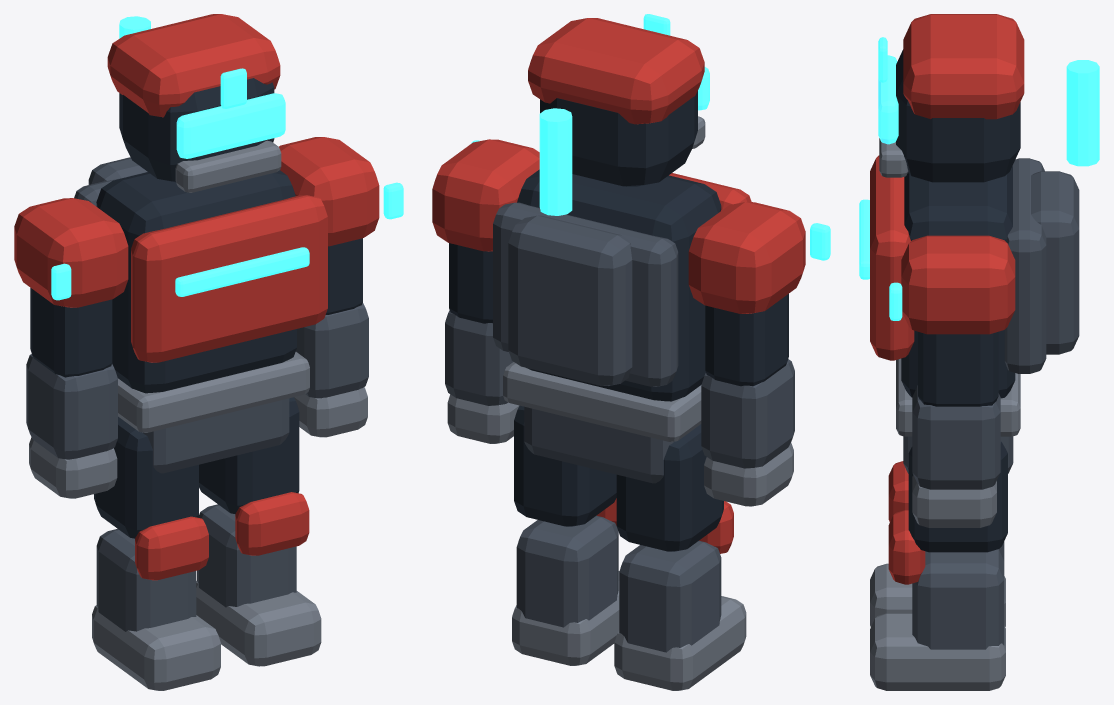
The model's file is riftline_duelist_lowpoly.glb.
3 renders of one model, left to right at view 1: azimuth 30°, elevation 25°; view 2: azimuth 150°, elevation 25°; view 3: azimuth 270°, elevation 25°, orthographic. The views are drawn at different scales.
Visible parts, largest first — view 1: TEAM_ChestPlate, DARK_TorsoCore, TEAM_HelmetShell, TEAM_LeftShoulder, ARMOR_LeftForearm, METAL_Belt, METAL_LeftBoot, TEAM_RightShoulder, DARK_LeftThigh, METAL_RightBoot, ARMOR_LeftShin, ARMOR_Pelvis (+17 smaller); view 2: ARMOR_Backpack, TEAM_HelmetShell, DARK_TorsoCore, TEAM_LeftShoulder, ARMOR_BackPlate, ARMOR_LeftShin, ARMOR_RightShin, DARK_HeadCore, DARK_LeftThigh, TEAM_RightShoulder, METAL_Belt, ARMOR_LeftForearm (+13 smaller); view 3: TEAM_HelmetShell, TEAM_RightShoulder, ARMOR_RightShin, DARK_HeadCore, DARK_TorsoCore, ARMOR_RightForearm, METAL_RightBoot, ARMOR_Backpack, ARMOR_BackPlate, TEAM_ChestPlate, DARK_RightUpperArm, DARK_RightThigh (+12 smaller).
Part boxes in pixels (x1=…): TEAM_ChestPlate: x1=131, y1=195, x2=327, y2=362; DARK_TorsoCore: x1=96, y1=170, x2=296, y2=393; TEAM_HelmetShell: x1=107, y1=14, x2=280, y2=117; TEAM_LeftShoulder: x1=14, y1=198, x2=128, y2=307; ARMOR_LeftForearm: x1=26, y1=354, x2=117, y2=459; METAL_Belt: x1=118, y1=352, x2=309, y2=432; METAL_LeftBoot: x1=92, y1=605, x2=220, y2=690; TEAM_RightShoulder: x1=279, y1=137, x2=379, y2=246; DARK_LeftThigh: x1=94, y1=416, x2=198, y2=538; METAL_RightBoot: x1=196, y1=581, x2=321, y2=666; ARMOR_LeftShin: x1=96, y1=528, x2=196, y2=631; ARMOR_Pelvis: x1=143, y1=398, x2=289, y2=473; ARMOR_Backpack: x1=508, y1=215, x2=632, y2=385; TEAM_HelmetShell: x1=528, y1=18, x2=704, y2=124; DARK_TorsoCore: x1=517, y1=169, x2=721, y2=401; TEAM_LeftShoulder: x1=688, y1=202, x2=805, y2=313; ARMOR_BackPlate: x1=493, y1=202, x2=678, y2=386; ARMOR_LeftShin: x1=619, y1=540, x2=721, y2=652; ARMOR_RightShin: x1=516, y1=515, x2=618, y2=627; DARK_HeadCore: x1=540, y1=91, x2=697, y2=186; DARK_LeftThigh: x1=616, y1=424, x2=723, y2=551; TEAM_RightShoulder: x1=432, y1=139, x2=539, y2=251; METAL_Belt: x1=503, y1=362, x2=701, y2=441; ARMOR_LeftForearm: x1=701, y1=359, x2=794, y2=468; TEAM_HelmetShell: x1=903, y1=14, x2=1024, y2=119; TEAM_RightShoulder: x1=901, y1=235, x2=1015, y2=334; ARMOR_RightShin: x1=912, y1=549, x2=1004, y2=649; DARK_HeadCore: x1=896, y1=49, x2=1020, y2=182; DARK_TorsoCore: x1=901, y1=166, x2=1015, y2=398; ARMOR_RightForearm: x1=912, y1=385, x2=1000, y2=489; METAL_RightBoot: x1=870, y1=613, x2=1005, y2=690; ARMOR_Backpack: x1=1031, y1=171, x2=1079, y2=354; ARMOR_BackPlate: x1=1004, y1=158, x2=1046, y2=373; TEAM_ChestPlate: x1=870, y1=155, x2=914, y2=360; DARK_RightUpperArm: x1=918, y1=331, x2=998, y2=406; DARK_RightThigh: x1=908, y1=441, x2=1007, y2=552.
Size of the model in its own units: 1.11 by 1.86 by 0.6545.
